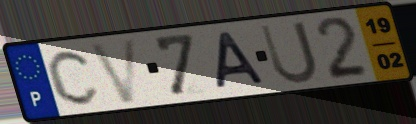2: (314, 16, 373, 83)
7: (151, 33, 201, 99)
A: (215, 30, 269, 92)
C: (45, 47, 103, 107)
U: (256, 18, 321, 87)
V: (86, 35, 141, 106)
